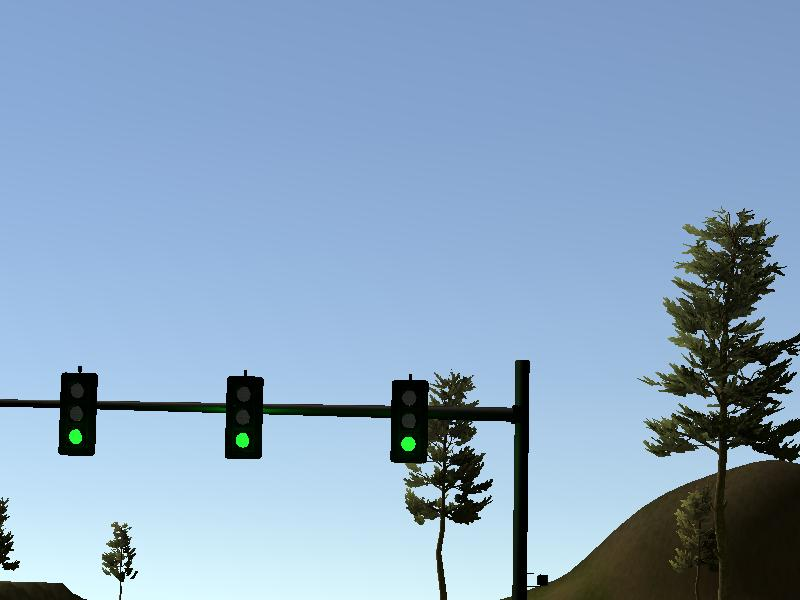green: (59, 372, 96, 456), (225, 376, 262, 460), (391, 378, 428, 462)
